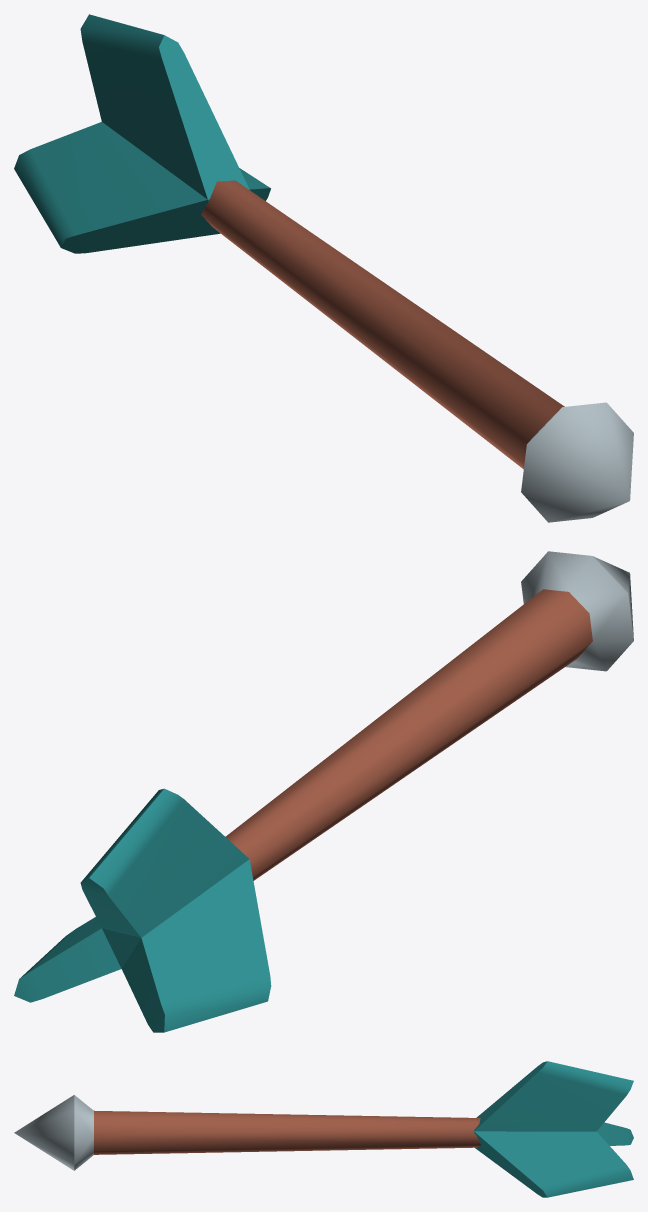
File: arrow.dae
The picture shows the model from 3 angles, top to bottom: view 1: azimuth 30°, elevation 25°; view 2: azimuth 150°, elevation 25°; view 3: azimuth 270°, elevation 25°; orthographic projection. The views are drawn at different scales.
Visible parts, largest first — view 1: arrow; view 2: arrow; view 3: arrow.
Boxes of the visible parts, box(x1,y1,x2,y2) form: arrow: box(14, 14, 633, 522); arrow: box(14, 551, 633, 1032); arrow: box(14, 1061, 633, 1197).
Size of the model in its own units: 0.1475 by 0.6674 by 0.1314.
